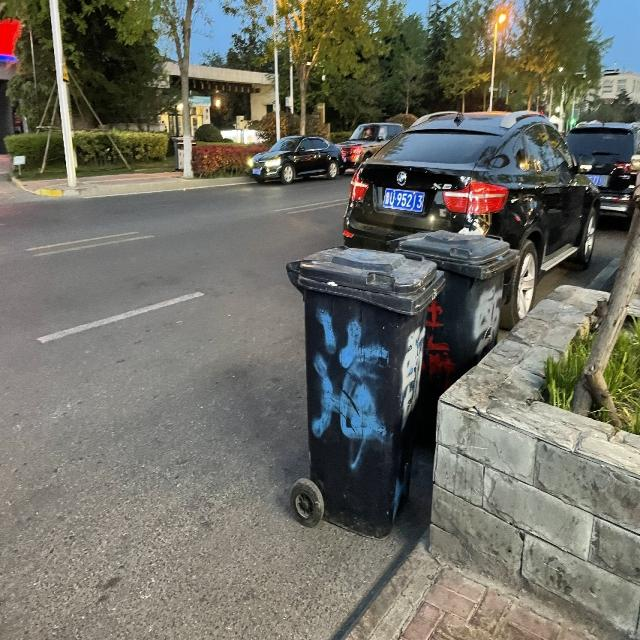garbage_bin: (284, 244, 445, 538), (385, 229, 519, 450)
